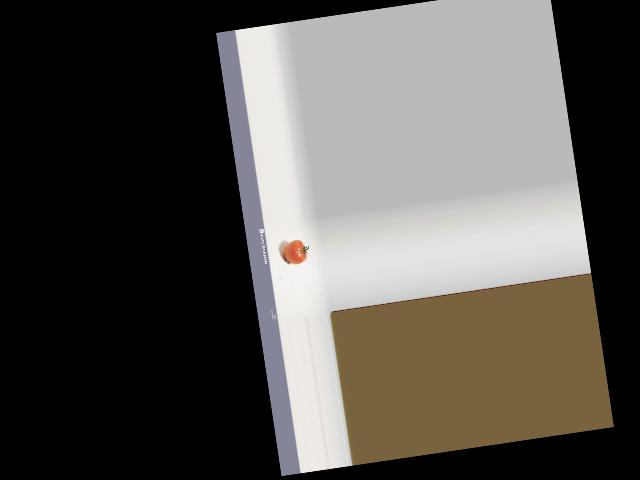tomato: (282, 239, 307, 266)
